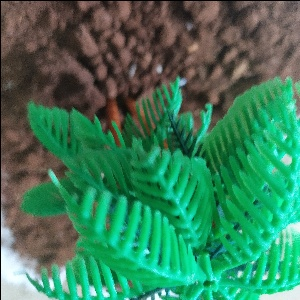plant: (18, 87, 300, 262)
